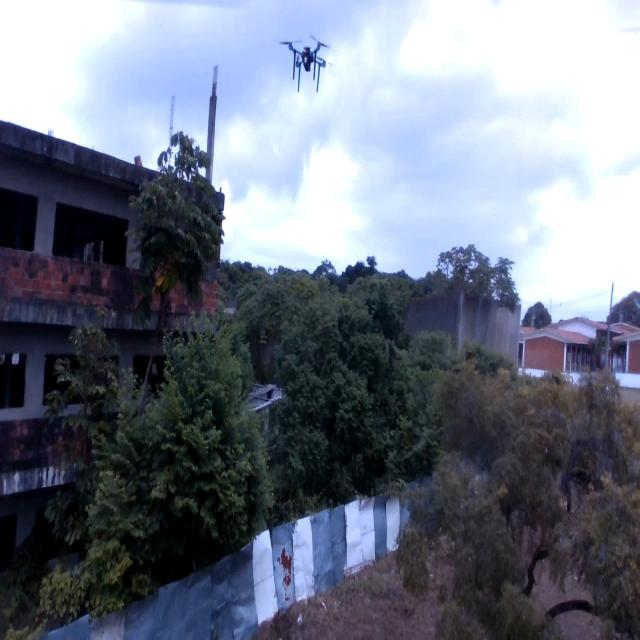-uav-: (275, 27, 339, 102)
